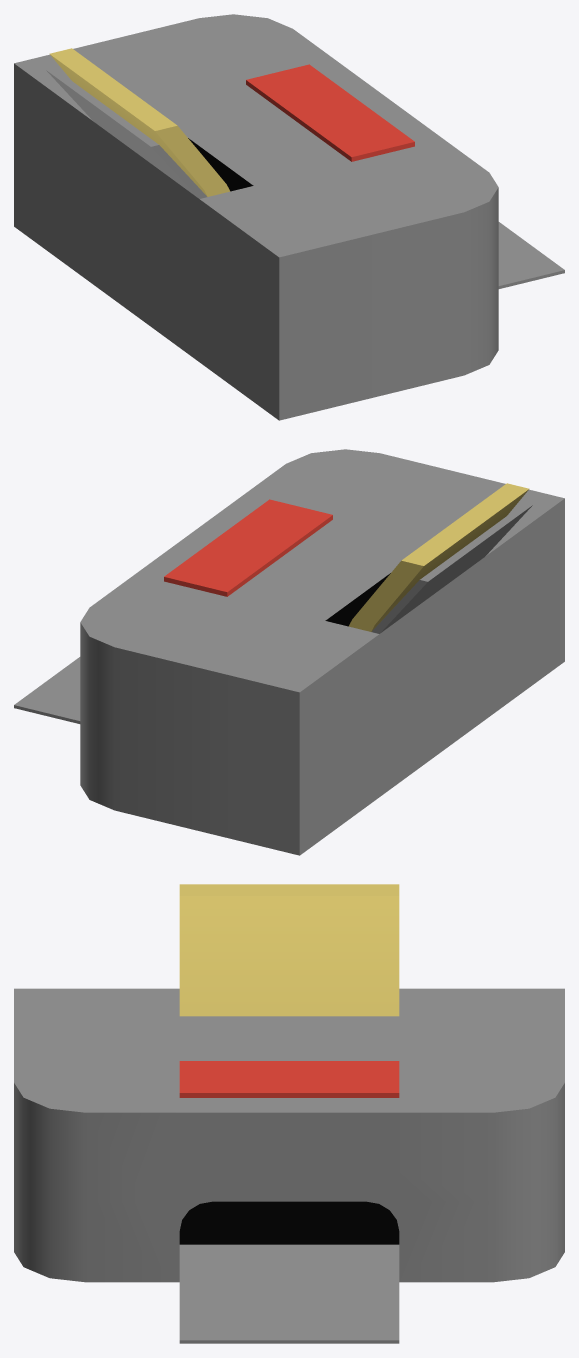
Rendered from SM_Printer.fbx.
3 views of the same model, one above another, from view 1: azimuth 30°, elevation 25°; view 2: azimuth 150°, elevation 25°; view 3: azimuth 270°, elevation 25° (orthographic). The views are drawn at different scales.
Parts seen in each view (by area): view 1: Printer, Button; view 2: Printer, Button; view 3: Printer, Button.
Part boxes in pixels (x1,y1,x2,y2): Printer: [14, 14, 564, 420]; Button: [246, 64, 414, 161]; Printer: [14, 449, 564, 855]; Button: [164, 499, 332, 596]; Printer: [14, 884, 564, 1343]; Button: [179, 1061, 399, 1097].
Size of the model in its own units: 64.05 by 35.77 by 71.06.
